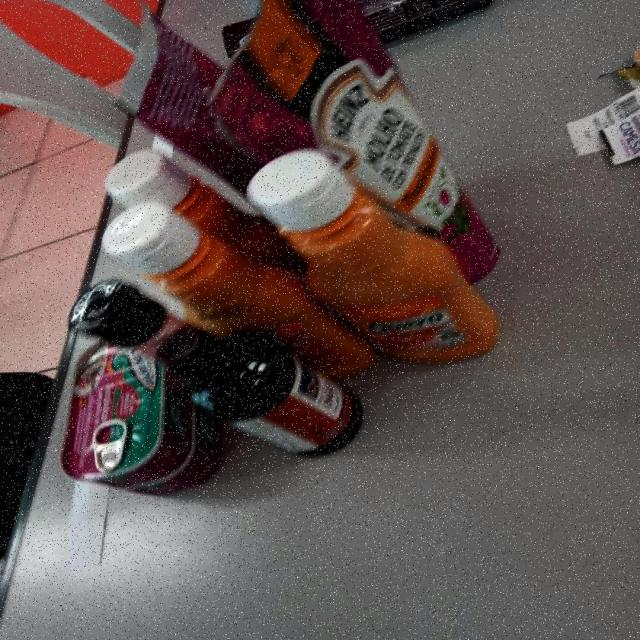EnglishSauce: (69, 281, 362, 457)
Mustard: (244, 148, 510, 369), (103, 207, 369, 386), (106, 149, 306, 276)
TomatoSauce: (202, 0, 502, 286), (107, 0, 265, 193)
TunaCan: (61, 336, 202, 494)
